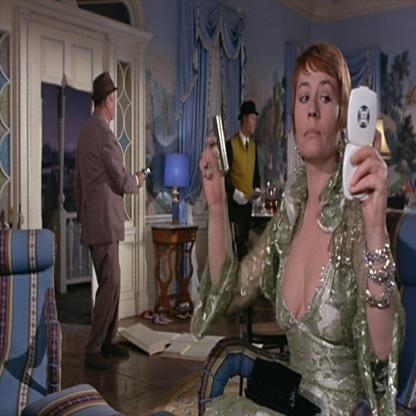gun: (197, 100, 237, 192)
